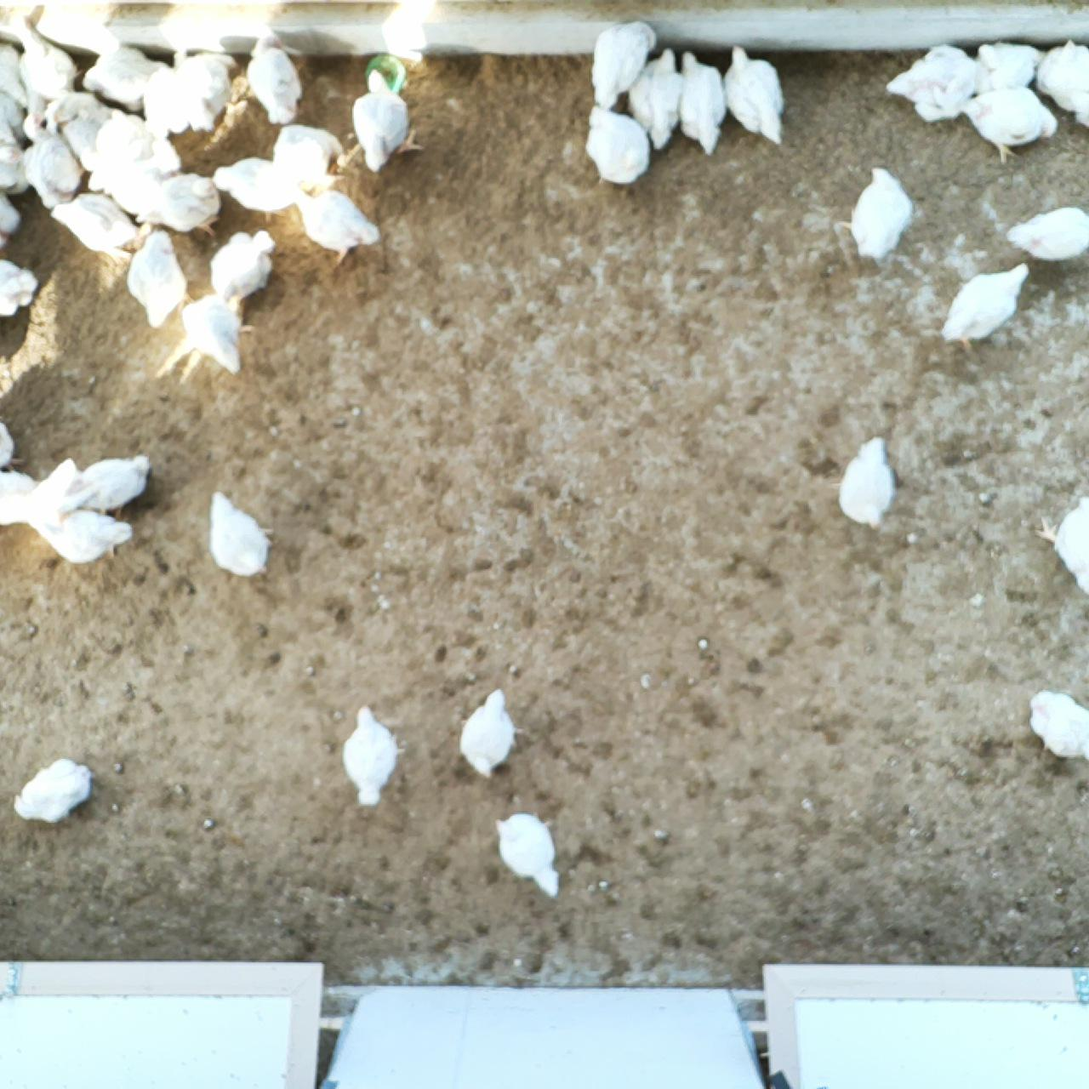chicken: (888, 41, 993, 127), (936, 264, 1030, 356), (835, 161, 911, 263), (716, 40, 786, 146), (287, 187, 383, 264), (351, 64, 422, 168), (961, 88, 1060, 161), (121, 225, 189, 328), (171, 295, 252, 376), (17, 106, 81, 208), (203, 489, 273, 581), (588, 22, 656, 116), (577, 101, 654, 184), (49, 190, 139, 261), (626, 49, 688, 151), (337, 700, 395, 807), (41, 84, 112, 169), (675, 44, 729, 155), (28, 506, 135, 562), (214, 155, 303, 222), (496, 811, 561, 902), (14, 758, 99, 826), (19, 460, 105, 527), (13, 16, 80, 101), (840, 438, 901, 531), (136, 174, 225, 237), (245, 28, 301, 127), (461, 687, 519, 781), (176, 48, 238, 133), (1035, 499, 1089, 593), (95, 153, 169, 219), (1004, 204, 1089, 261), (210, 229, 276, 301), (85, 45, 162, 106), (1026, 689, 1089, 762), (277, 120, 345, 185), (967, 40, 1043, 97), (1041, 39, 1089, 129), (80, 454, 151, 512), (138, 61, 185, 134), (94, 109, 154, 166), (0, 465, 53, 527), (0, 102, 27, 193), (0, 31, 27, 114), (0, 256, 35, 316), (0, 74, 30, 137), (0, 416, 27, 472), (0, 193, 20, 249)
